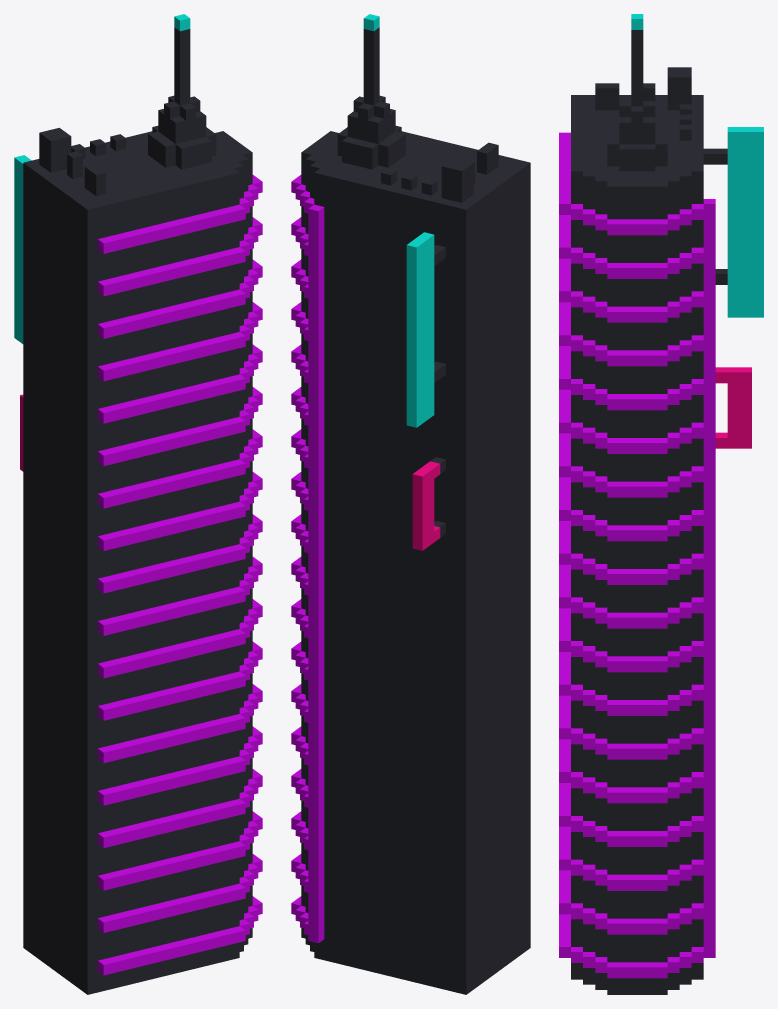
3 renders of one model, left to right at view 1: azimuth 30°, elevation 25°; view 2: azimuth 150°, elevation 25°; view 3: azimuth 270°, elevation 25°, orthographic. The views are drawn at different scales.
Visible parts, largest first — view 1: Cube.377; view 2: Cube.377; view 3: Cube.377.
Part boxes in pixels (bbox=[...]): Cube.377: bbox=[14, 14, 262, 994]; Cube.377: bbox=[291, 14, 530, 994]; Cube.377: bbox=[559, 14, 763, 994].
Bounding box in the file's own units: 1900 × 8700 × 1700.
